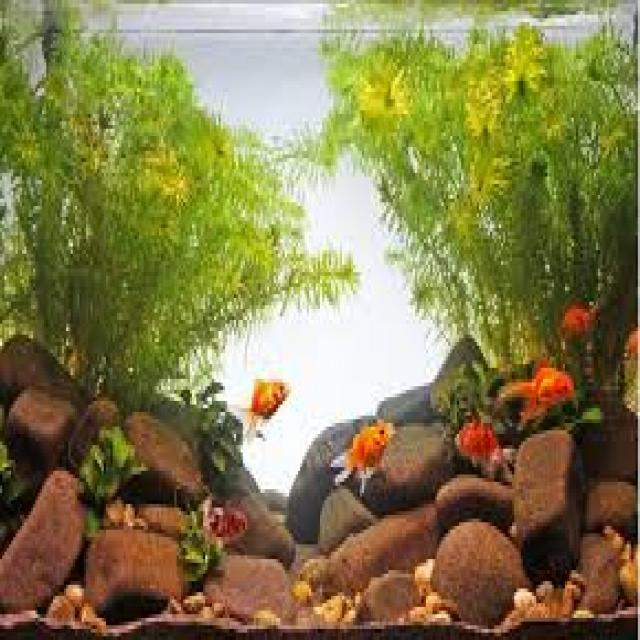goldfish: (335, 420, 395, 494), (236, 379, 289, 439)
